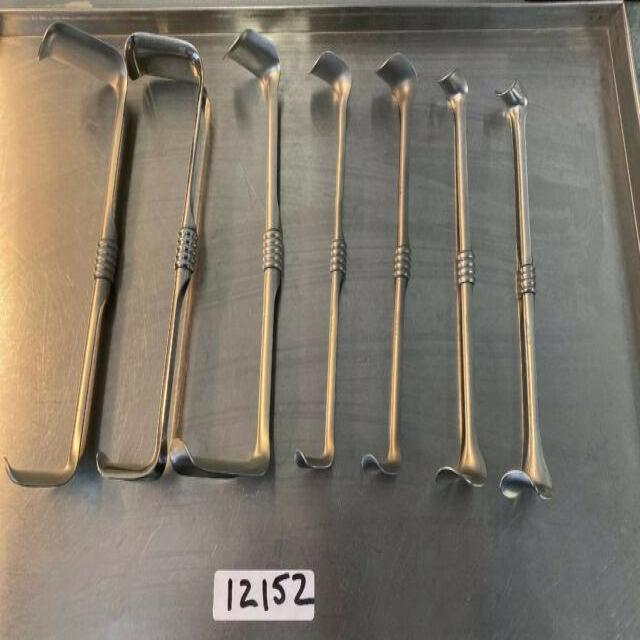Richardson: (2, 15, 134, 495), (92, 26, 216, 488), (164, 23, 286, 486), (292, 47, 358, 477), (358, 51, 419, 485), (432, 66, 492, 499), (497, 83, 556, 509)
